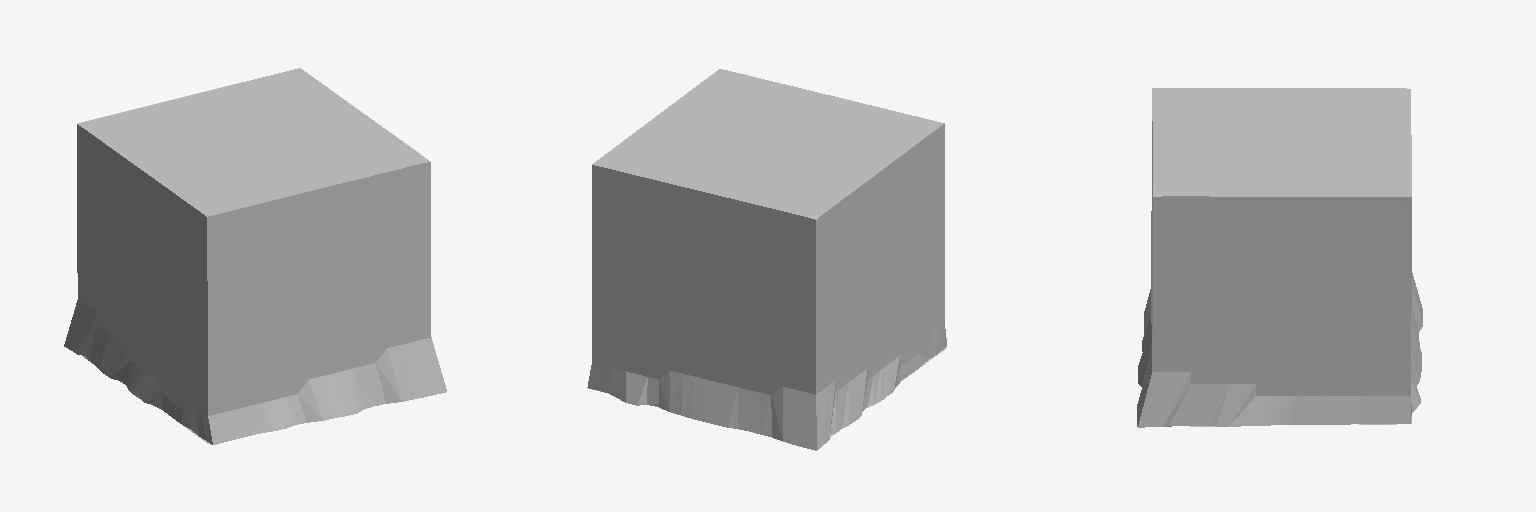
File: mod0064.obj
3 views of the same model, side by side, from view 1: azimuth 30°, elevation 25°; view 2: azimuth 150°, elevation 25°; view 3: azimuth 270°, elevation 25° (orthographic).
Parts seen in each view (by area): view 1: Box001; view 2: Box001; view 3: Box001.
Boxes of the visible parts, <box> form: Box001: <box>64,68,446,444</box>; Box001: <box>587,69,946,450</box>; Box001: <box>1137,88,1422,427</box>.
Bounding box in the file's own units: 0.5799 × 0.5239 × 0.5979.